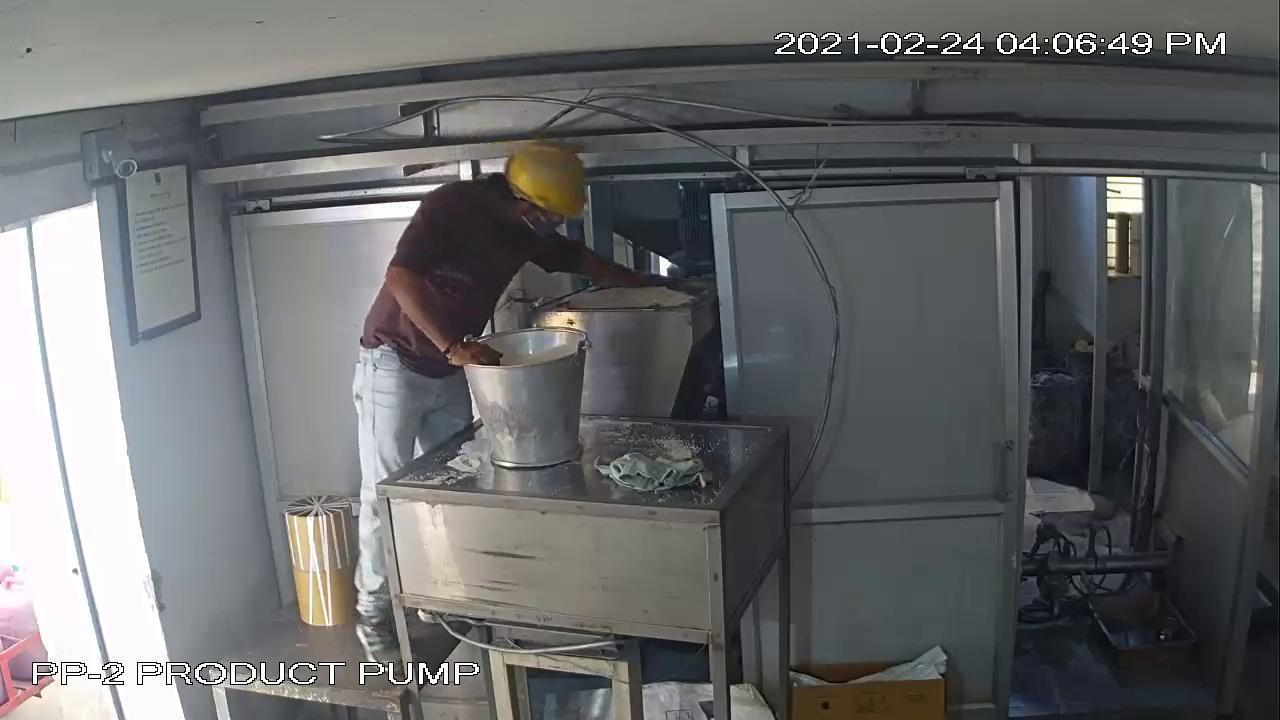helmet: (492, 131, 598, 237)
